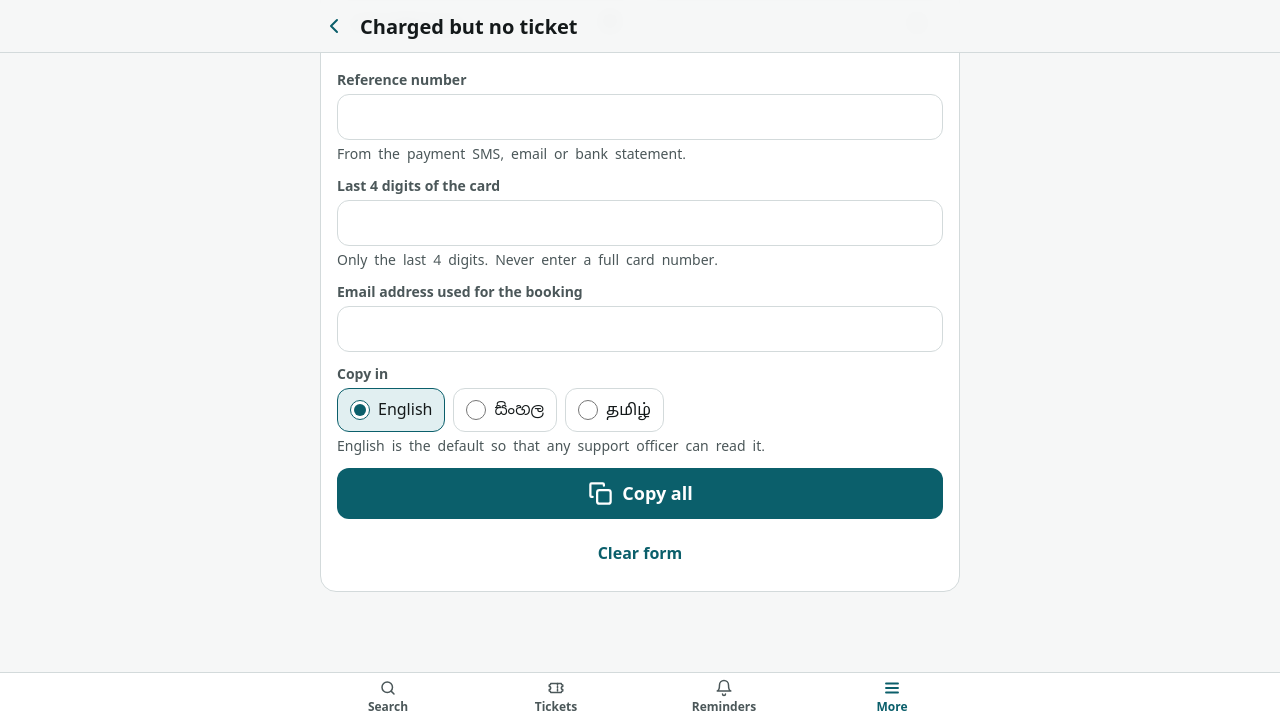
Test: empty form: every field explains what is missing and focus goes to the first
(page scrolled)
Step 1. Click the button "Copy all" → (640, 494), box [337,468,943,519]
(page scrolled)
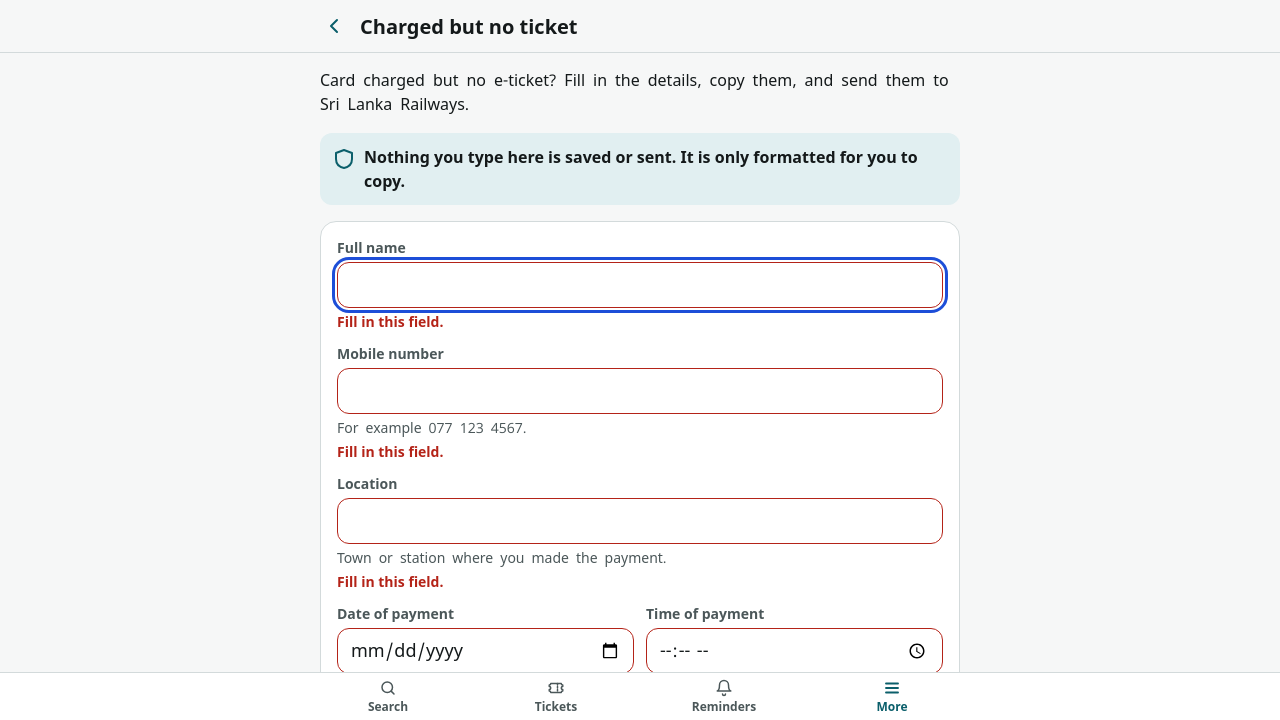
expect the text "Fill in this field." is shown 8 times: met
